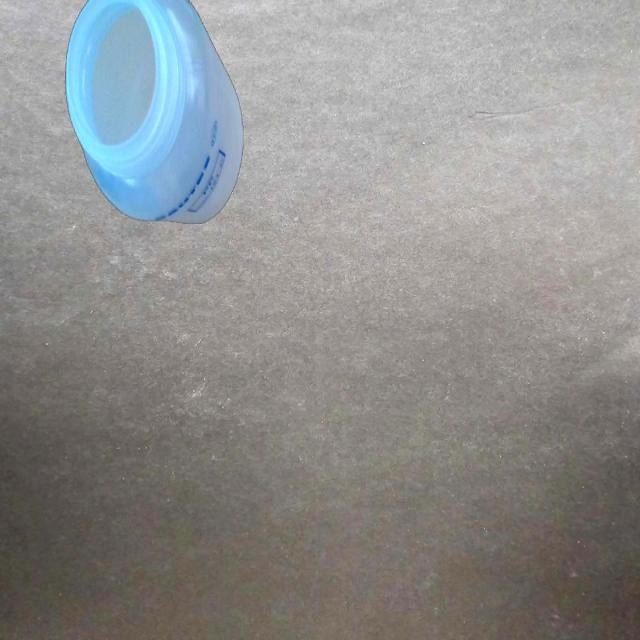bottle: (65, 0, 245, 230)
